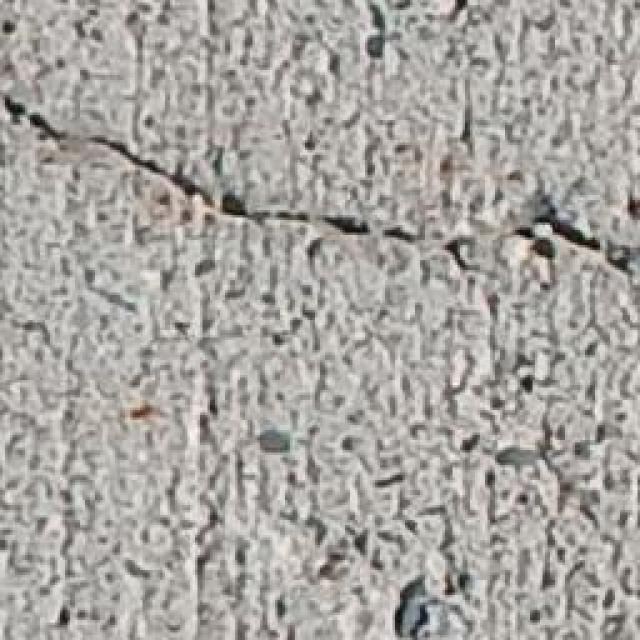concrete-crack: (0, 89, 640, 296)
